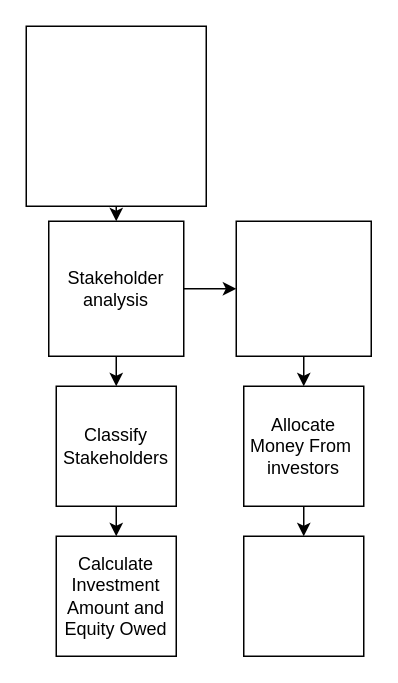
The diagram is 398 pixels wide and 683 high, and some of its shapes have lost their labels. The box of each missing label's shape, as (x1, y1, x2, y2) in pixels:
Budget Creation: (235, 220, 371, 356)
Mate X E-bike: (25, 25, 206, 206)
